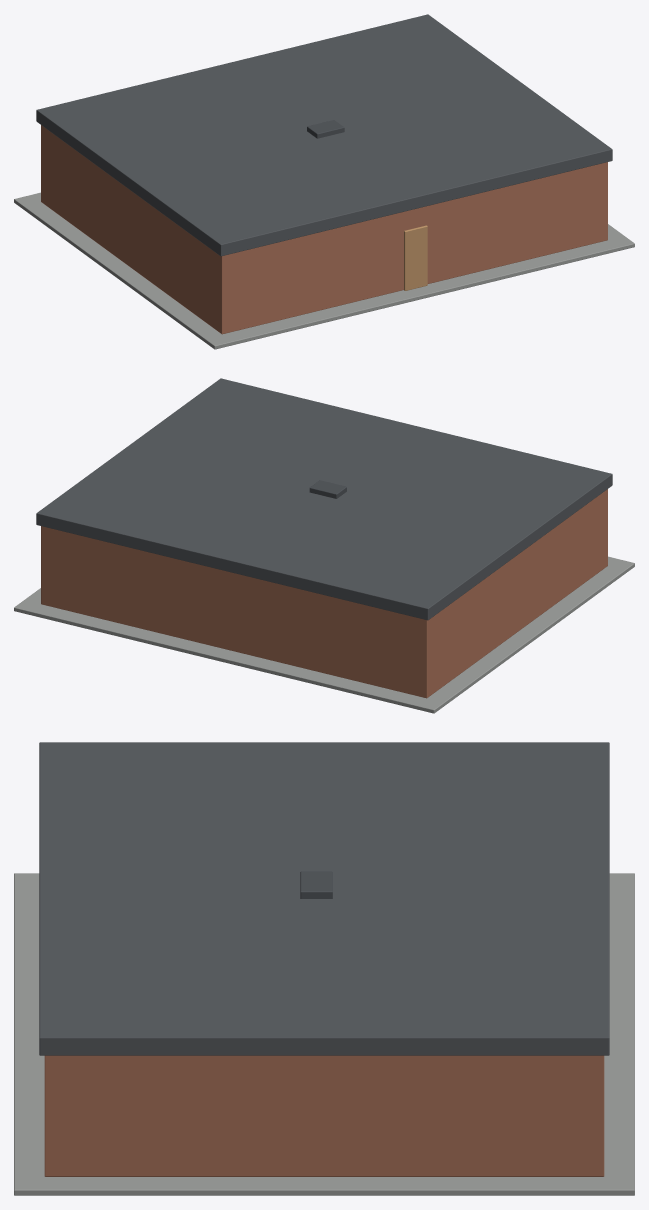
Rendered from Building_Residential_013.glb.
3 views of the same model, one above another, from view 1: azimuth 30°, elevation 25°; view 2: azimuth 150°, elevation 25°; view 3: azimuth 270°, elevation 25° (orthographic). The views are drawn at different scales.
Parts seen in each view (by area): view 1: Building_Residential_013; view 2: Building_Residential_013; view 3: Building_Residential_013.
Part boxes in pixels (x1,y1,x2,y2): Building_Residential_013: (14,14,634,349); Building_Residential_013: (14,378,634,713); Building_Residential_013: (14,742,634,1195).
Size of the model in its own units: 18.43 by 4.2 by 15.26.
